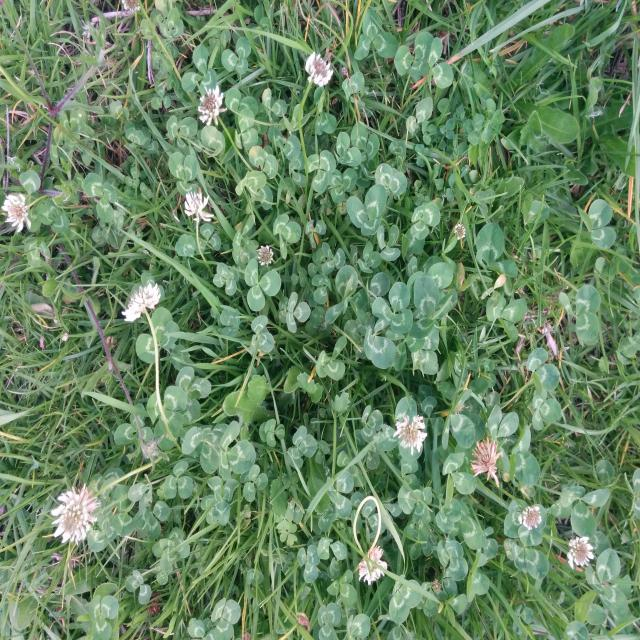Four Leaf Clover: (213, 264, 239, 295)
